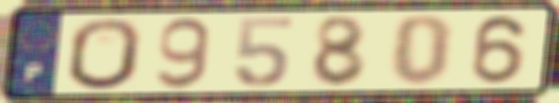0: (387, 12, 455, 88)
5: (231, 14, 295, 90)
6: (470, 12, 530, 87)
8: (312, 14, 371, 88)
9: (154, 14, 213, 92)
O: (67, 16, 144, 92)
